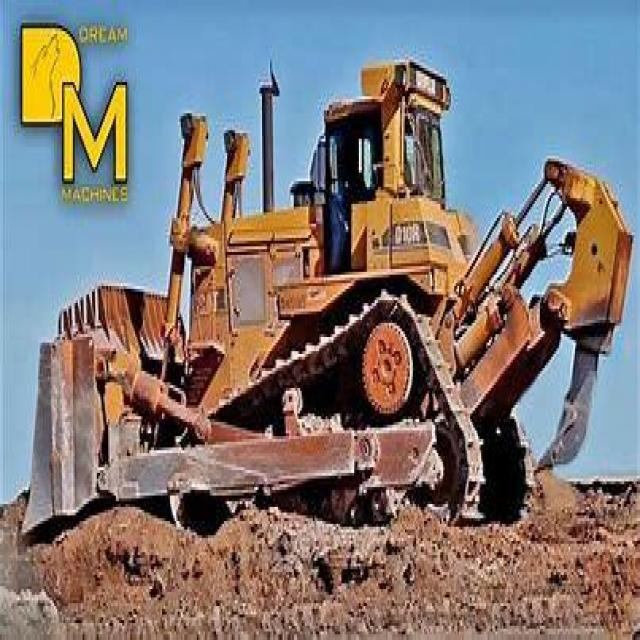Bulldozer: (14, 34, 629, 552)
